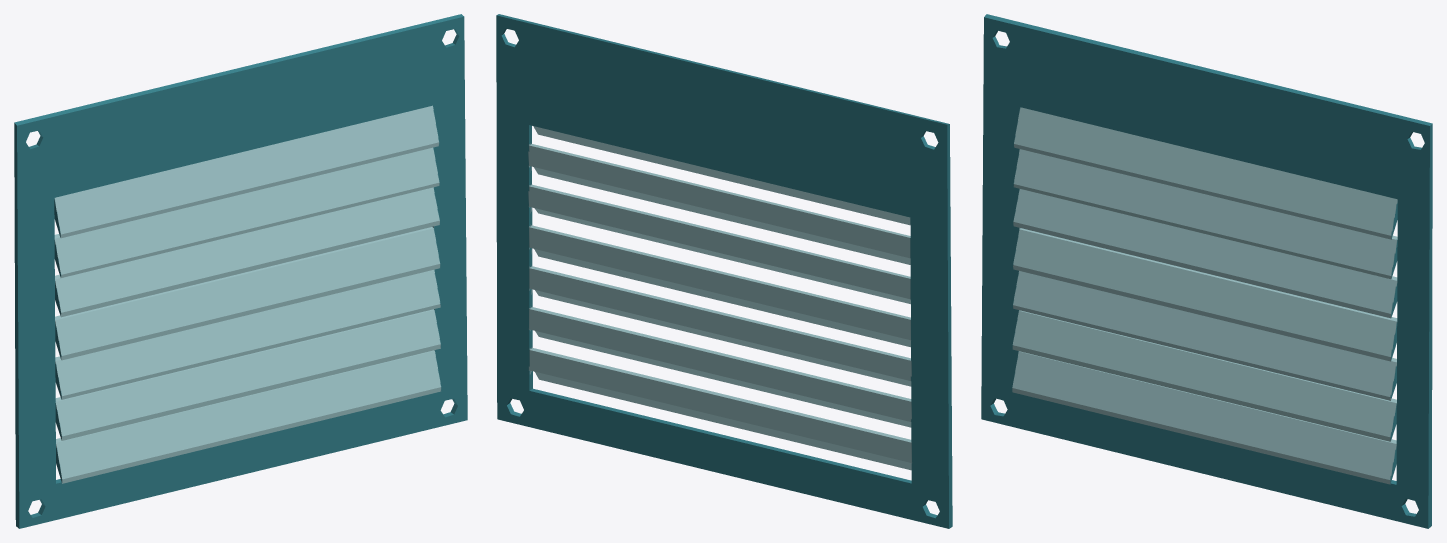
The model's file is EXP_2_Side_Console_Lid2.fbx.
3 renders of one model, left to right at view 1: azimuth 30°, elevation 25°; view 2: azimuth 150°, elevation 25°; view 3: azimuth 330°, elevation 25°, orthographic.
Parts seen in each view (by area): view 1: Right_Console_Panel; view 2: Right_Console_Panel; view 3: Right_Console_Panel.
Boxes of the visible parts, box(x1,y1,x2,y2) form: Right_Console_Panel: box(14, 14, 467, 528); Right_Console_Panel: box(496, 14, 952, 528); Right_Console_Panel: box(981, 14, 1432, 528).
Size of the model in its own units: 484 by 416 by 20.82.
